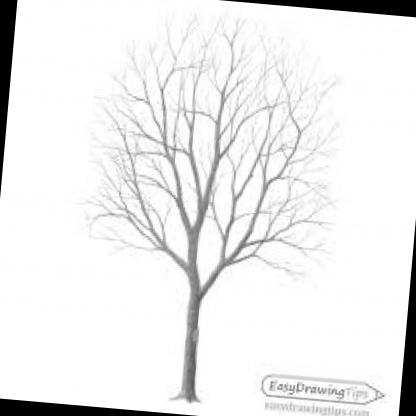branch_sharp: (84, 0, 353, 306)
knot: (189, 326, 201, 344)
root_only: (166, 390, 206, 408)
trunk_straight: (176, 306, 210, 371)
